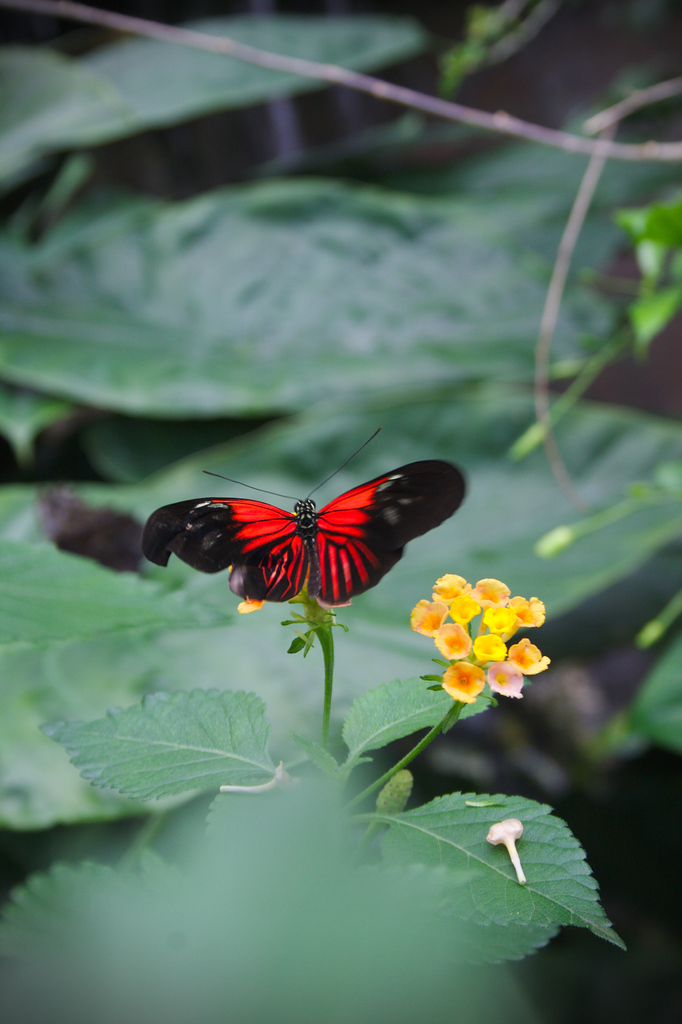Butterfly: (132, 445, 479, 634)
